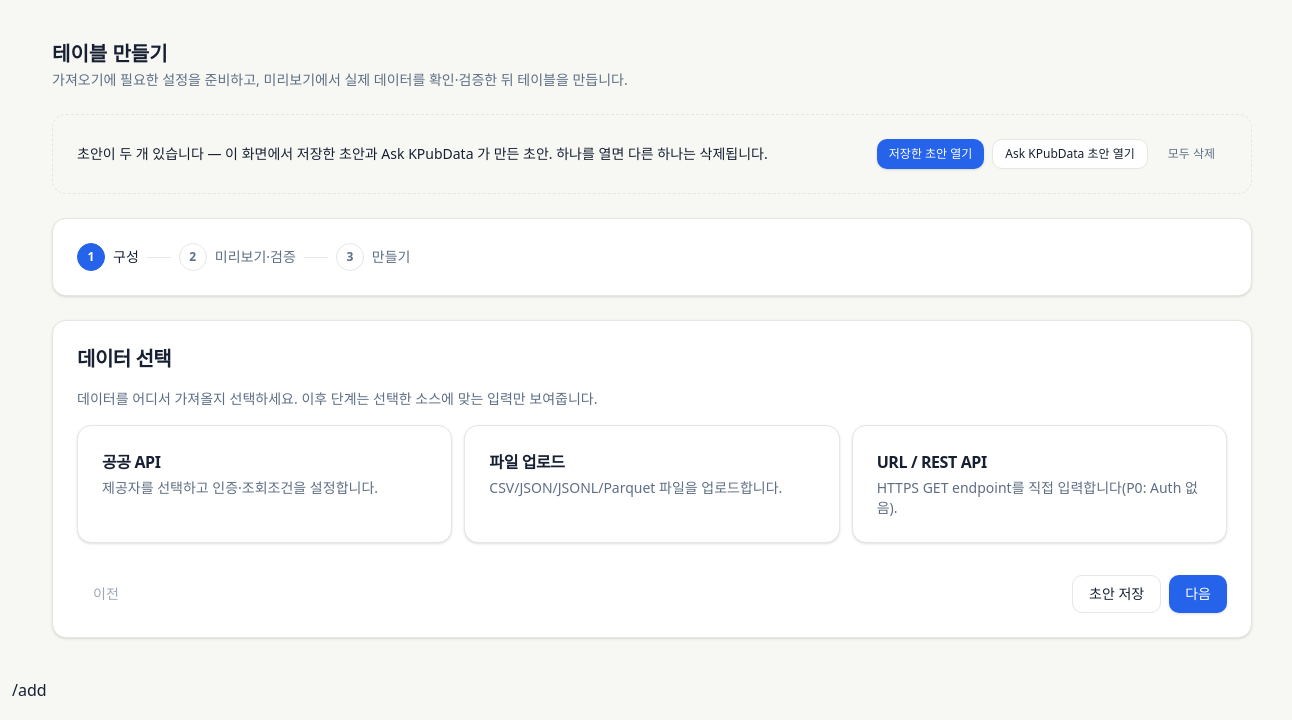
Test: one table creation flow (#534) › with a saved draft and an Ask KPubData draft, opening one deletes the other
The width and height of the screenshot is (1292, 720).
Expected: the text "초안이 두 개 있습니다" is shown, [77,144,768,163]
What coordinates should you click on to do the following:
click the button "Ask KPubData 초안 열기"
I would click on:
 (1070, 154)
Its box is [992,139,1148,169].
(page scrolled)
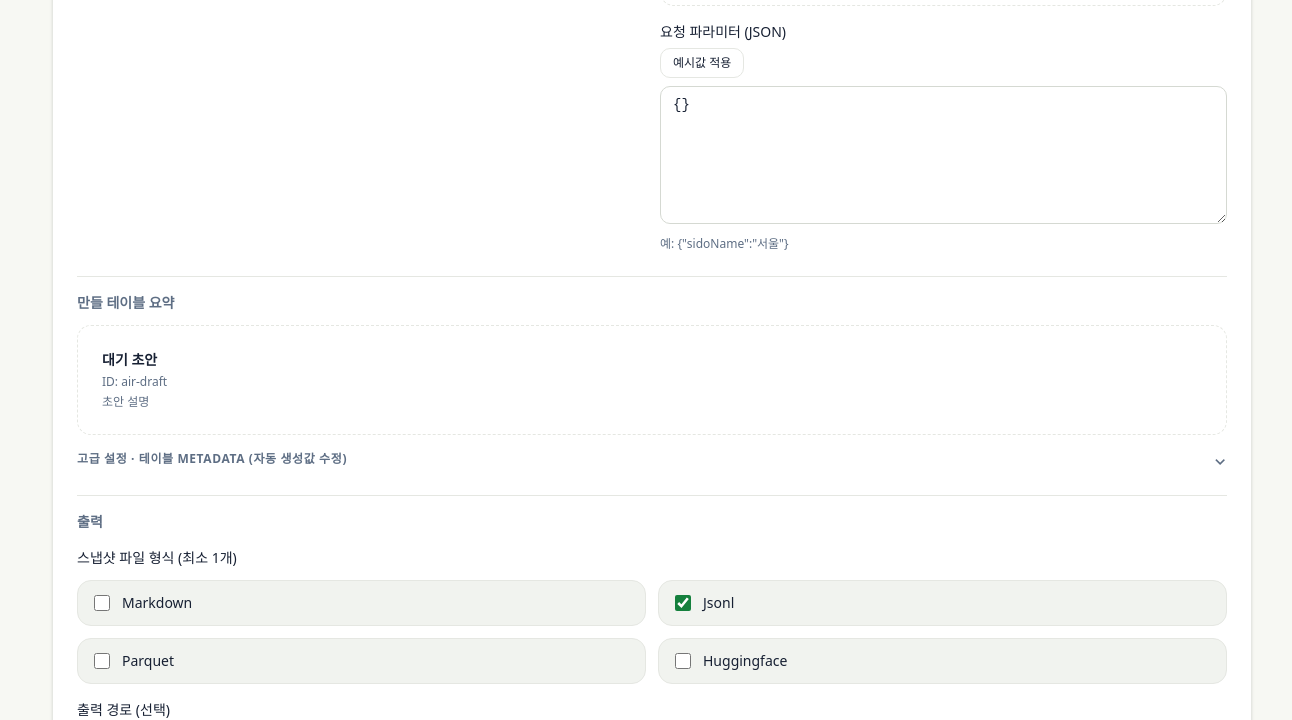
Result: the text "대기 초안" is shown at [102,350,157,369]
Result: the text "초안이 두 개 있습니다" is gone
